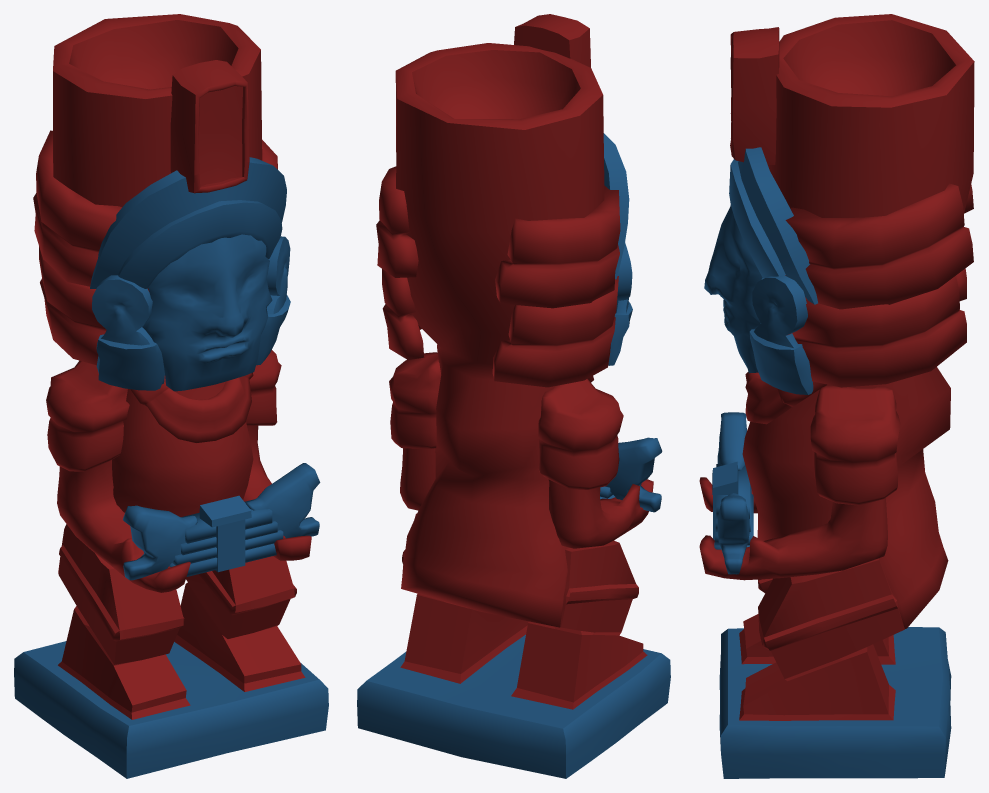
Rendered from Totem_lp.fbx.
The picture shows the model from 3 angles, left to right: view 1: azimuth 30°, elevation 25°; view 2: azimuth 150°, elevation 25°; view 3: azimuth 270°, elevation 25°; orthographic projection. The views are drawn at different scales.
Parts seen in each view (by area): view 1: 04_lp, 01_lp, 03_lp, 02_lp; view 2: 02_lp, 03_lp, 04_lp, 01_lp; view 3: 02_lp, 03_lp, 04_lp, 01_lp.
Boxes of the visible parts, bbox=[...] form: 04_lp: bbox=[14, 528, 328, 778]; 01_lp: bbox=[90, 60, 290, 391]; 03_lp: bbox=[33, 130, 320, 592]; 02_lp: bbox=[53, 14, 262, 573]; 02_lp: bbox=[395, 43, 604, 627]; 03_lp: bbox=[376, 166, 662, 548]; 04_lp: bbox=[357, 513, 670, 778]; 01_lp: bbox=[514, 14, 632, 365]; 02_lp: bbox=[742, 14, 974, 628]; 03_lp: bbox=[699, 183, 973, 580]; 04_lp: bbox=[719, 558, 951, 778]; 01_lp: bbox=[704, 27, 817, 394].
Bounding box in the file's own units: 37.36 × 111 × 39.62.
